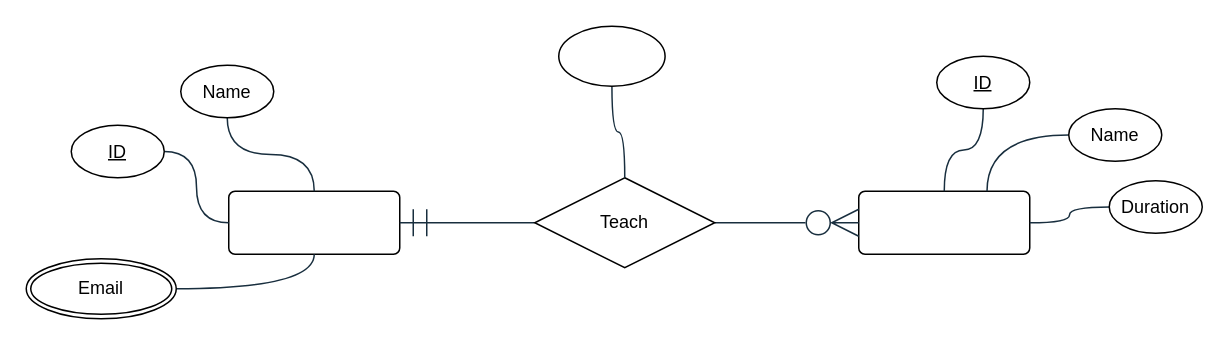
The diagram is 1229 pixels wide and 345 high, and some of its shapes have lost their labels. Here are the shapes that lost their labels. From the top down, the centre of each, then its label:
At point (611, 55): "Join Date".
At point (313, 222): "Teacher".
At point (943, 222): "Course".
